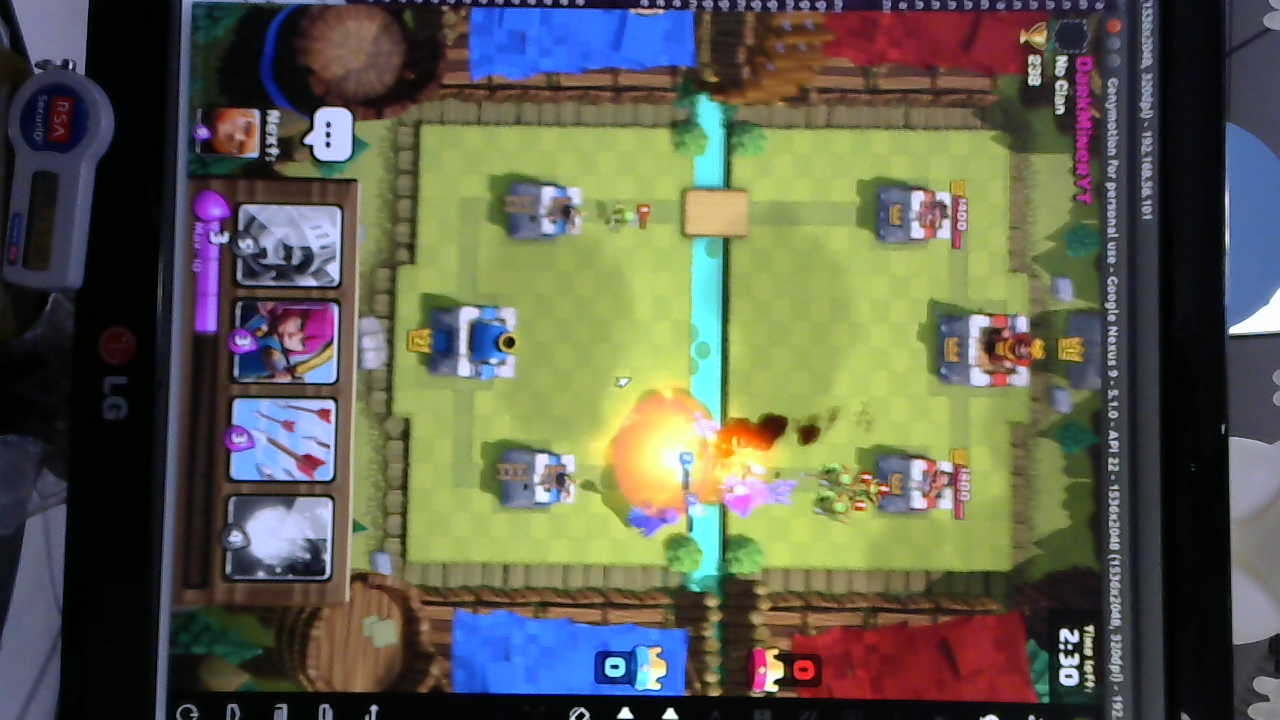arena: (499, 447, 580, 513), (500, 180, 585, 239)
earena: (869, 450, 955, 519), (870, 184, 954, 245)
eking: (935, 310, 1039, 386)
goblin: (599, 200, 640, 235)
king: (424, 301, 520, 383)
speargoblins: (815, 456, 880, 523)
witch: (621, 497, 688, 534)
